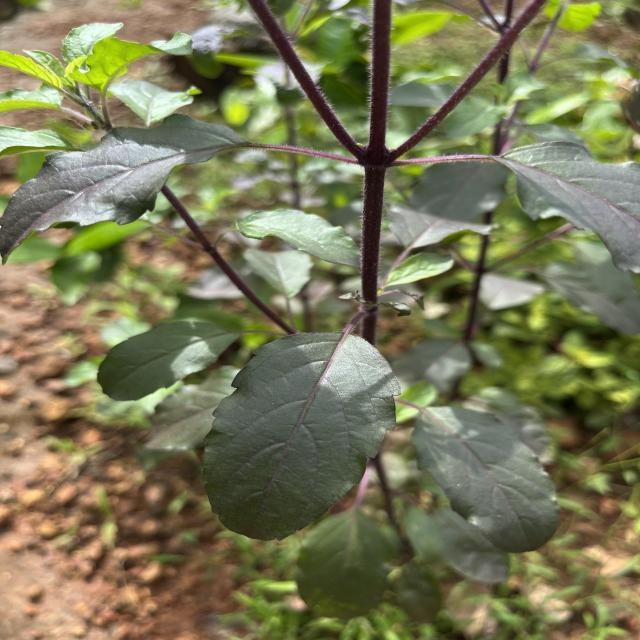Ocimum tenuiflorum: (196, 326, 407, 546), (0, 110, 255, 267)
